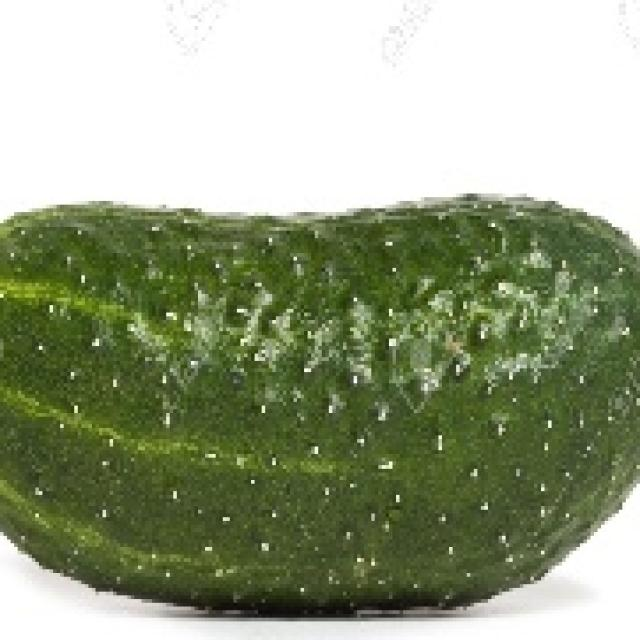cucumber: (0, 201, 640, 606)
